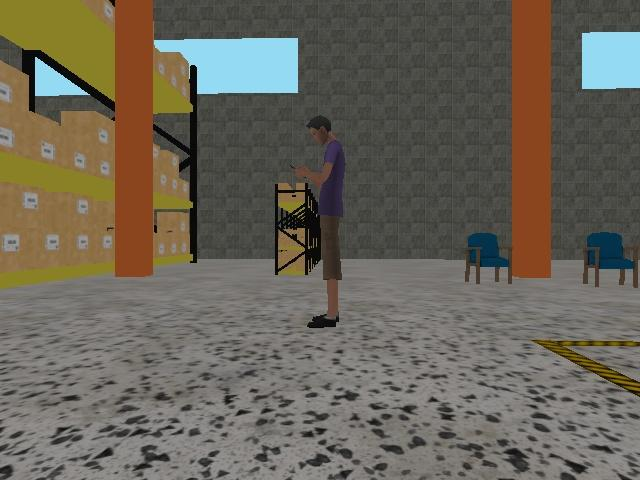chair: (580, 229, 640, 289), (462, 232, 517, 286)
person: (291, 113, 348, 333)
